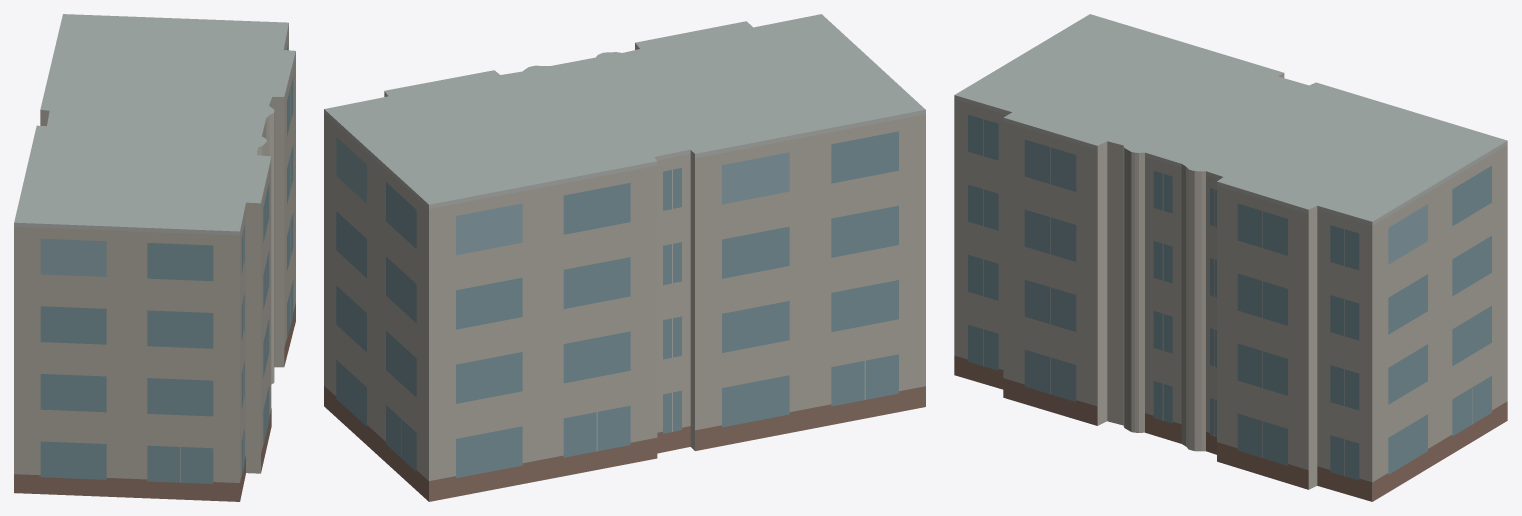
The model's file is survey-upis-33021316.glb.
3 views of the same model, side by side, from view 1: azimuth 30°, elevation 25°; view 2: azimuth 150°, elevation 25°; view 3: azimuth 270°, elevation 25° (orthographic). The views are drawn at different scales.
Parts seen in each view (by area): view 1: survey-upis-33021316.tmp; view 2: survey-upis-33021316.tmp; view 3: survey-upis-33021316.tmp.
Part boxes in pixels (box(x1,y1,x2,y2)): survey-upis-33021316.tmp: box(14, 14, 295, 501); survey-upis-33021316.tmp: box(324, 14, 925, 501); survey-upis-33021316.tmp: box(954, 14, 1507, 501).
Bounding box in the file's own units: 26.27 × 16.5 × 29.55.
